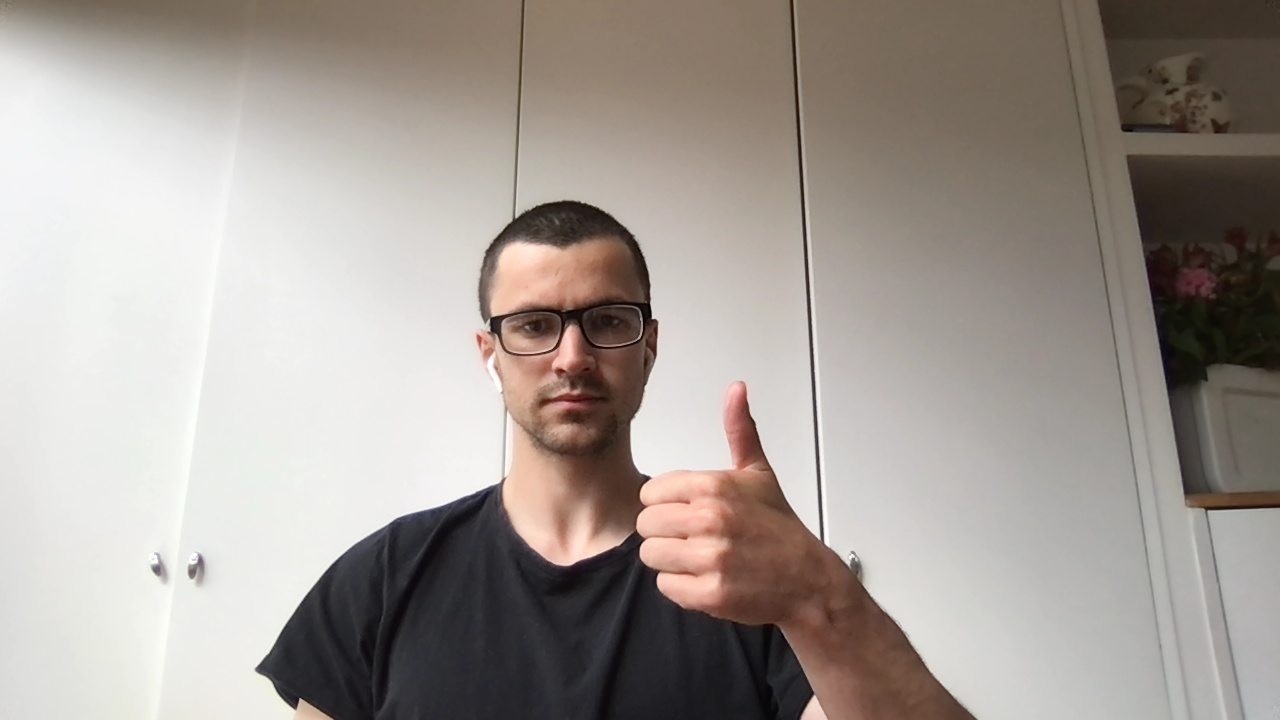thumbUp: (636, 380, 803, 632)
